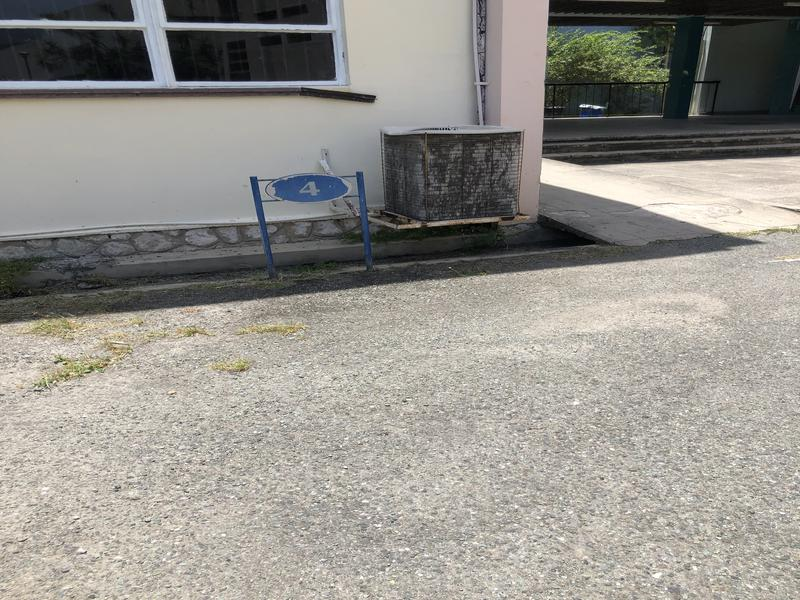18.0053530_-76.7490375_signatentrancetoscitech: (229, 160, 383, 274)
